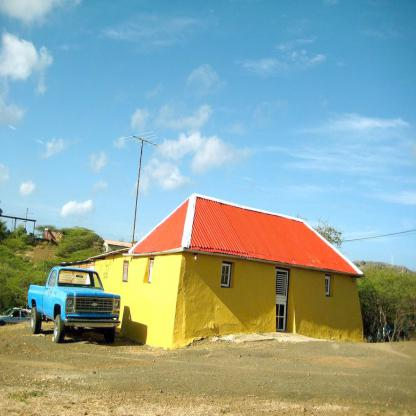Truck: (25, 264, 128, 343)
